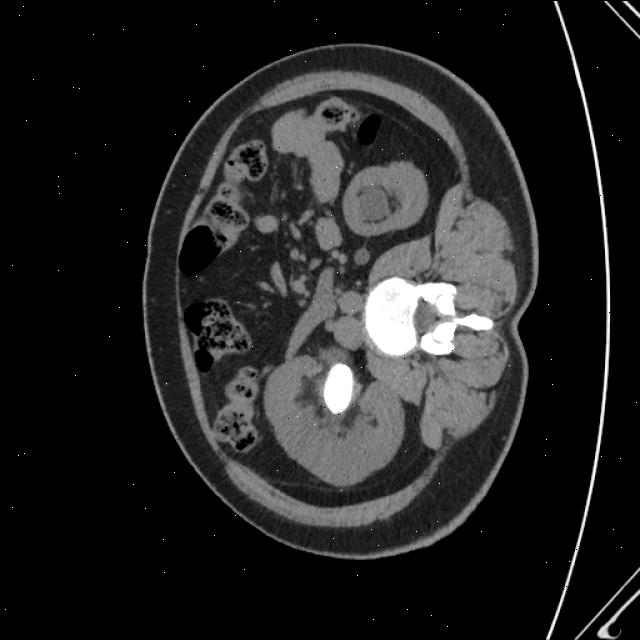kidneystone: (319, 346, 352, 369), (353, 376, 361, 396)
